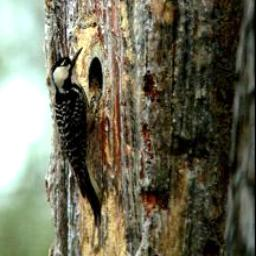Woodpecker: (44, 41, 114, 240)
